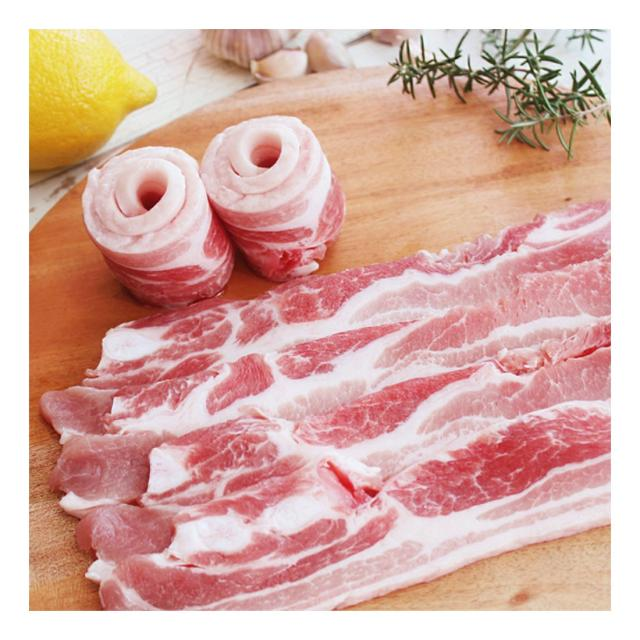pork: (46, 139, 640, 639)
